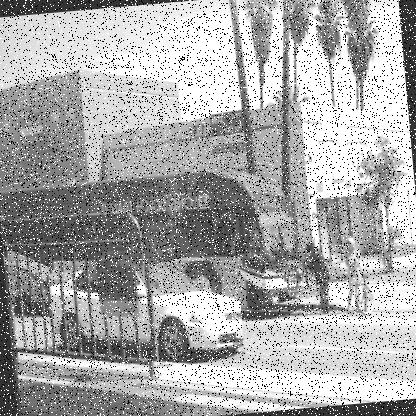Car: (45, 258, 244, 371)
